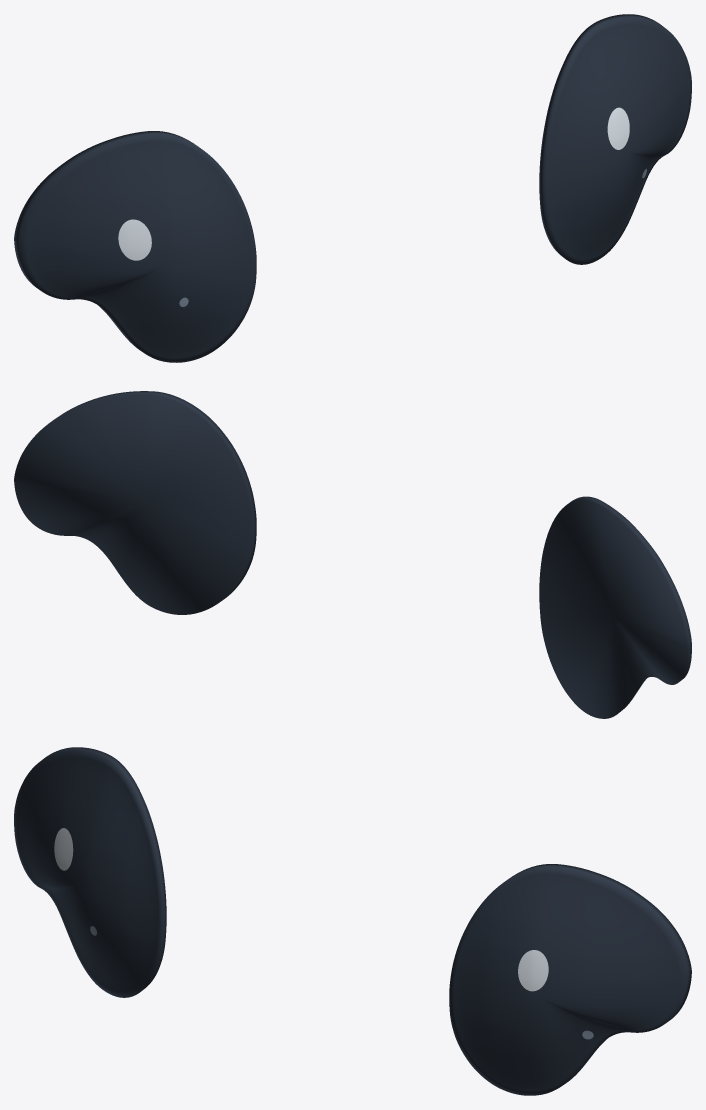
The model's file is Feminine-Feminine-eyes-bean-79354f4c.glb.
3 renders of one model, top to bottom at view 1: azimuth 30°, elevation 25°; view 2: azimuth 150°, elevation 25°; view 3: azimuth 330°, elevation 25°, orthographic.
Visible parts, largest first — view 1: 226 eyes / Eye / smoky charcoal181, 226 eyes / Eye highlight181; view 2: 226 eyes / Eye / smoky charcoal181; view 3: 226 eyes / Eye / smoky charcoal181, 226 eyes / Eye highlight181.
Part boxes in pixels (x1,y1,x2,y2): 226 eyes / Eye / smoky charcoal181: (14, 14, 691, 362); 226 eyes / Eye highlight181: (118, 107, 629, 260); 226 eyes / Eye / smoky charcoal181: (14, 391, 691, 718); 226 eyes / Eye / smoky charcoal181: (14, 747, 691, 1095); 226 eyes / Eye highlight181: (54, 828, 548, 991).
Bounding box in the file's own units: 0.4877 × 0.1553 × 0.0631.
